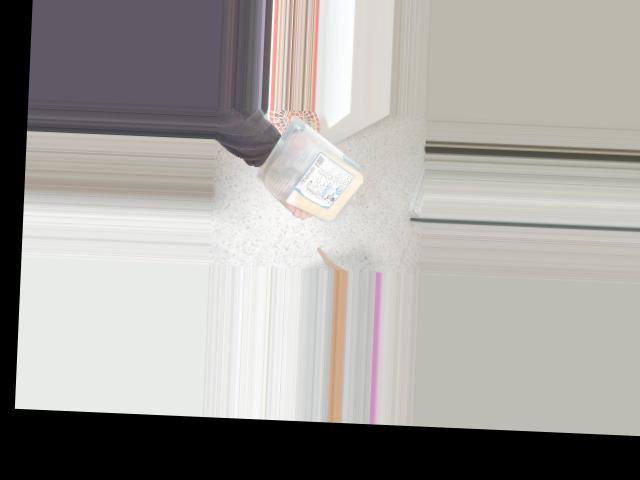cheese: (271, 157, 366, 213)
